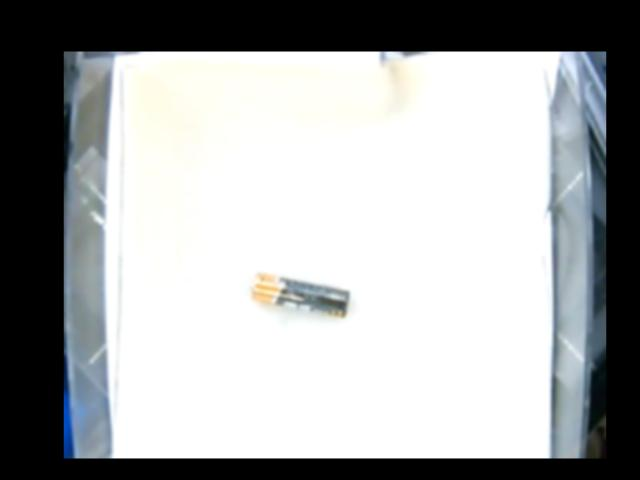Battery: (249, 273, 350, 320)
